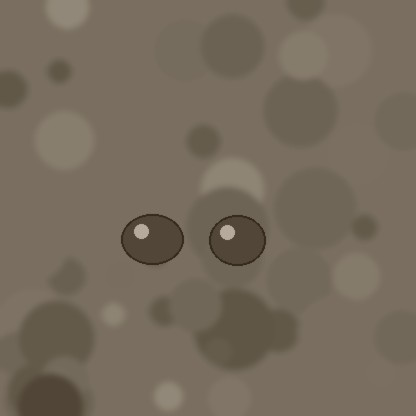gota: (121, 216, 183, 268), (209, 217, 265, 269)
